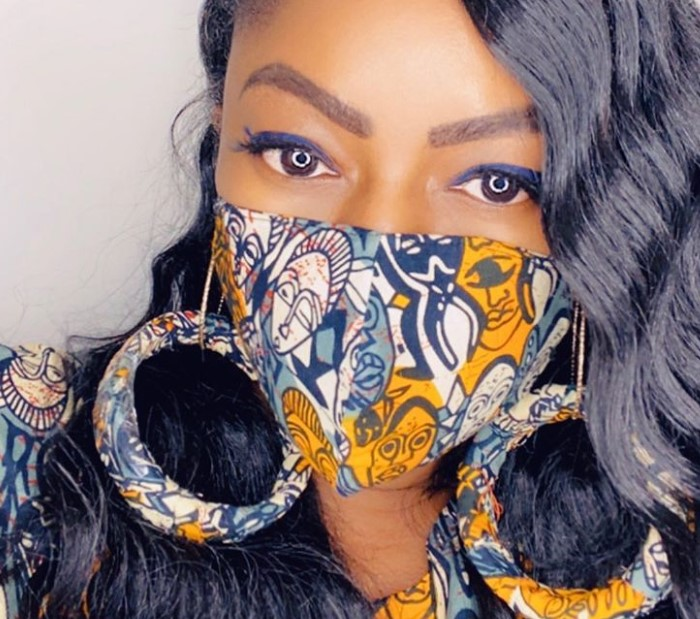face_with_mask: (195, 6, 681, 499)
